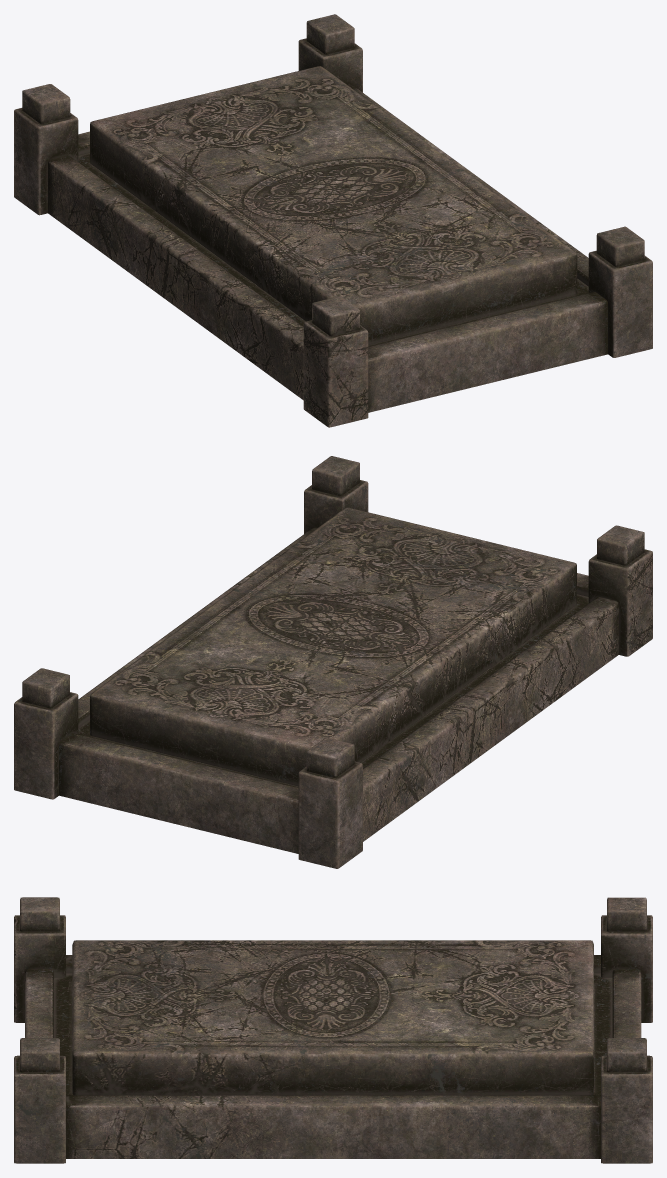
File: SM_tombstone_42.fbx
3 views of the same model, one above another, from view 1: azimuth 30°, elevation 25°; view 2: azimuth 150°, elevation 25°; view 3: azimuth 270°, elevation 25° (orthographic).
Parts seen in each view (by area): view 1: SM_tombstone_042; view 2: SM_tombstone_042; view 3: SM_tombstone_042.
Part boxes in pixels (x1,y1,x2,y2): SM_tombstone_042: (14, 14, 652, 427); SM_tombstone_042: (14, 456, 652, 868); SM_tombstone_042: (14, 897, 652, 1163).
Bounding box in the file's own units: 132 × 41.62 × 221.
